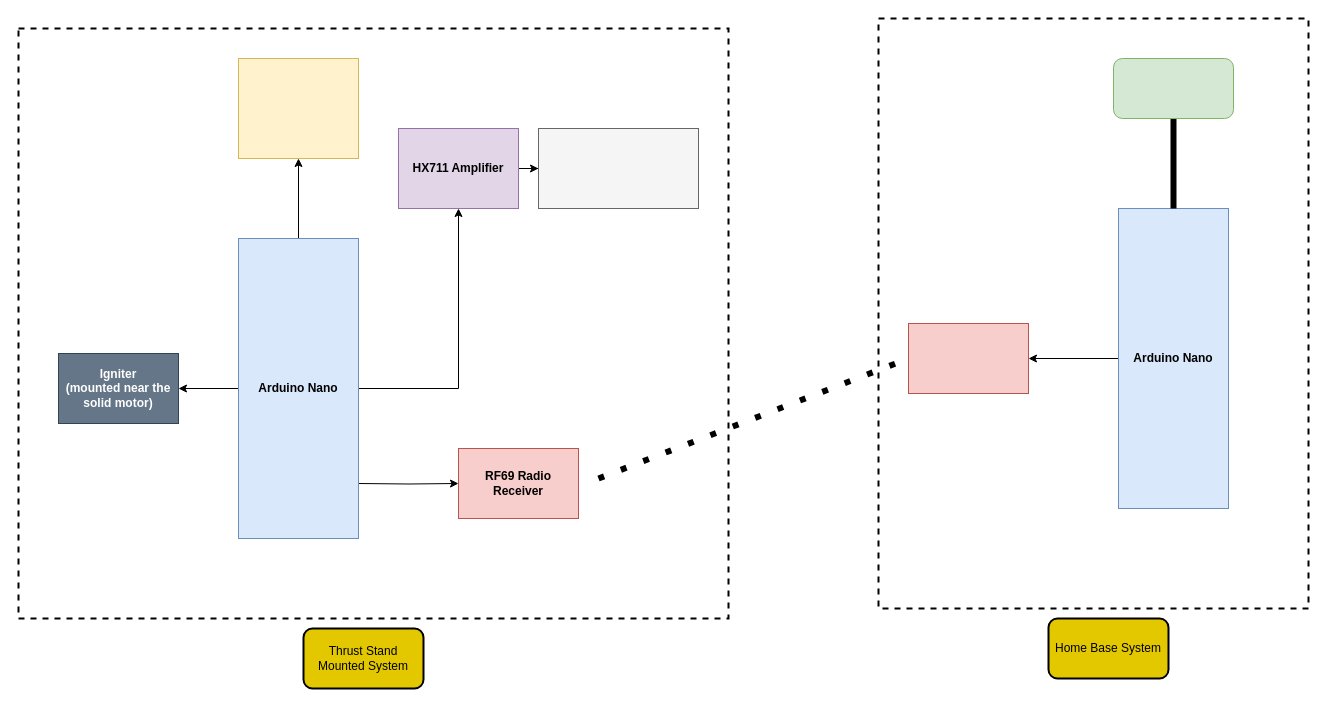
Some shapes in this 1326 by 706 pixel diagram are drawn without their labels. The centre of each missing label's shape, as x and y in pixels:
"Computer" belongs at (x=1173, y=88).
"Load Cell" belongs at (x=618, y=168).
"RF69 Radio Transmitter" belongs at (x=968, y=358).
"SD Card Breakout Board" belongs at (x=298, y=108).
